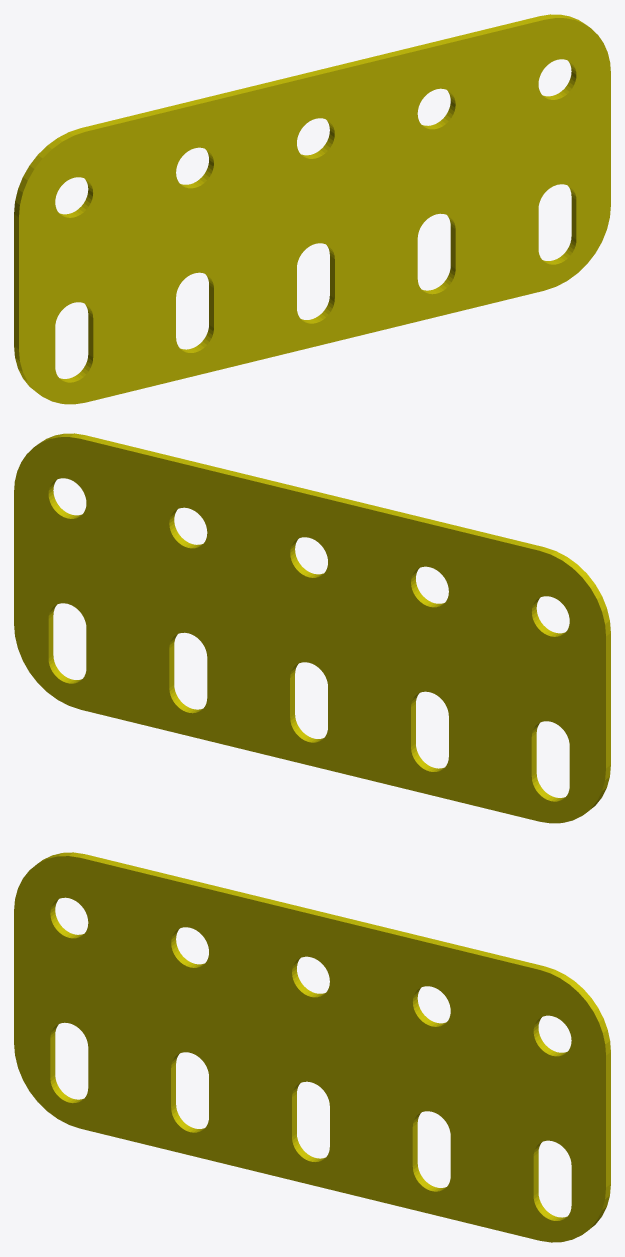
File: TamPhang_2x5_KimLoai_Vang.glb
The picture shows the model from 3 angles, top to bottom: view 1: azimuth 30°, elevation 25°; view 2: azimuth 150°, elevation 25°; view 3: azimuth 330°, elevation 25°; orthographic projection.
Visible parts, largest first — view 1: defaultobject.001; view 2: defaultobject.001; view 3: defaultobject.001.
Part boxes in pixels (x1,y1,x2,y2): defaultobject.001: [14, 14, 610, 404]; defaultobject.001: [14, 433, 610, 823]; defaultobject.001: [14, 852, 610, 1242].
Size of the model in its own units: 155 by 67.98 by 2.24.
